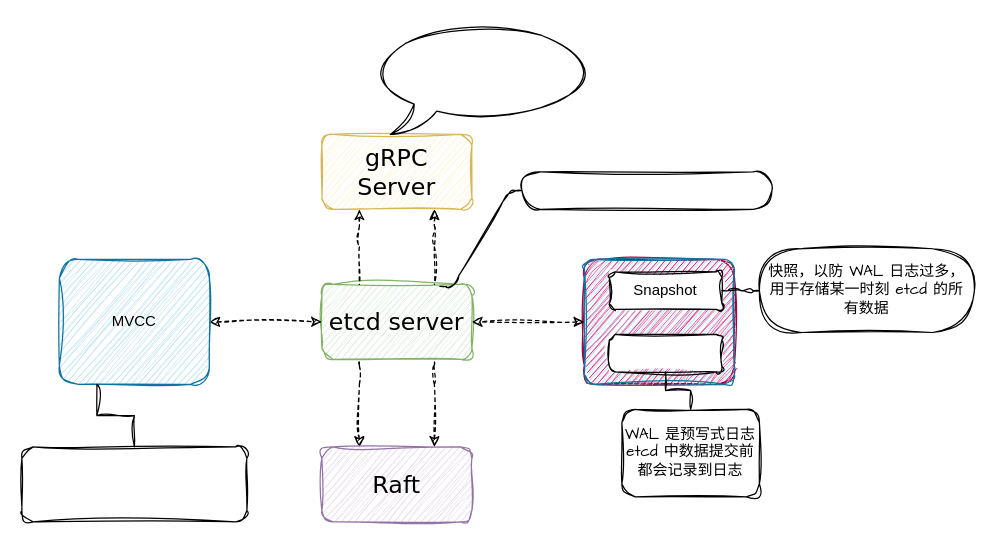
Some shapes in this 996 by 544 pixel diagram are drawn without their labels. The shapes that lost their labels are listed below. From the top down, each one's box as (x1, y1, x2, y2) in pixels, then its label:
(371, 21, 597, 134): etcd 与其他etcd节点之间的 通信和信息同步
(521, 171, 772, 209): 对外接收和处理客户端的请求
(608, 333, 722, 372): WAL
(21, 446, 247, 522): 多版本控制，etcd 的存储模块 键值对的每一次操作行为都会被记录在BoltDB数据库中
